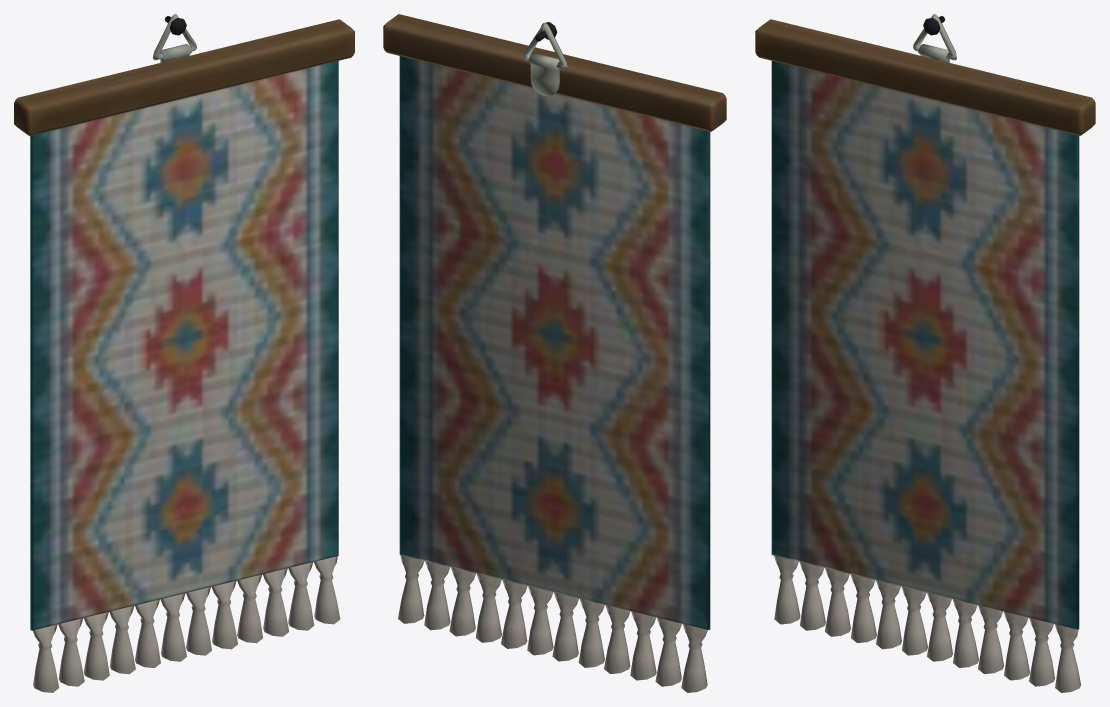
3 views of the same model, side by side, from view 1: azimuth 30°, elevation 25°; view 2: azimuth 150°, elevation 25°; view 3: azimuth 330°, elevation 25° (orthographic).
Size of the model in its own units: 7.55 by 13.87 by 0.9999.
1 material, 1 textured.
